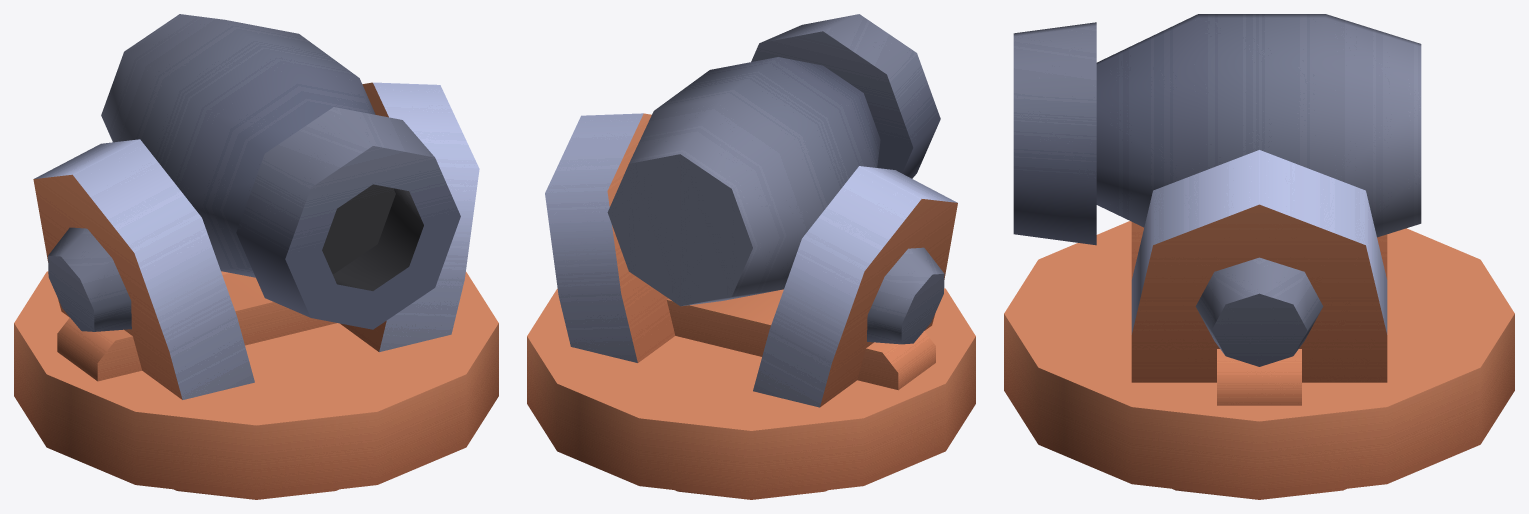
File: weapon-cannon.glb
3 renders of one model, left to right at view 1: azimuth 30°, elevation 25°; view 2: azimuth 150°, elevation 25°; view 3: azimuth 270°, elevation 25°, orthographic. The views are drawn at different scales.
Visible parts, largest first — view 1: weapon-cannon, barrel; view 2: weapon-cannon, barrel; view 3: weapon-cannon, barrel.
Part boxes in pixels (x1,y1,x2,y2): weapon-cannon: [14, 82, 498, 499]; barrel: [101, 14, 460, 329]; weapon-cannon: [527, 113, 975, 499]; barrel: [607, 14, 940, 306]; weapon-cannon: [1004, 150, 1514, 499]; barrel: [1013, 14, 1421, 245].
Size of the model in its own units: 0.6 by 0.5328 by 0.6.
1 material, 1 textured.
